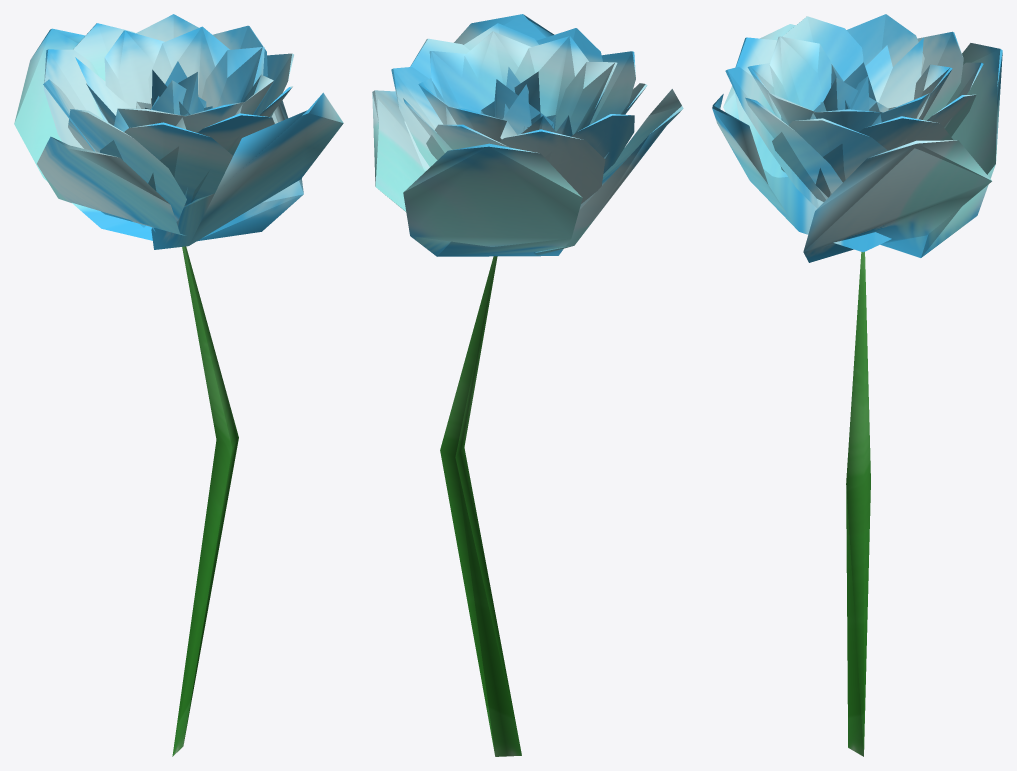
File: flower2.dae
3 views of the same model, side by side, from view 1: azimuth 30°, elevation 25°; view 2: azimuth 150°, elevation 25°; view 3: azimuth 270°, elevation 25° (orthographic).
Visible parts, largest first — view 1: flowerpot2_polySurface3; view 2: flowerpot2_polySurface3; view 3: flowerpot2_polySurface3.
Part boxes in pixels (box(x1,y1,x2,y2)): flowerpot2_polySurface3: box(14, 14, 343, 756); flowerpot2_polySurface3: box(372, 14, 683, 756); flowerpot2_polySurface3: box(712, 14, 1002, 756).
Bounding box in the file's own units: 0.6854 × 1.7 × 0.6573.
